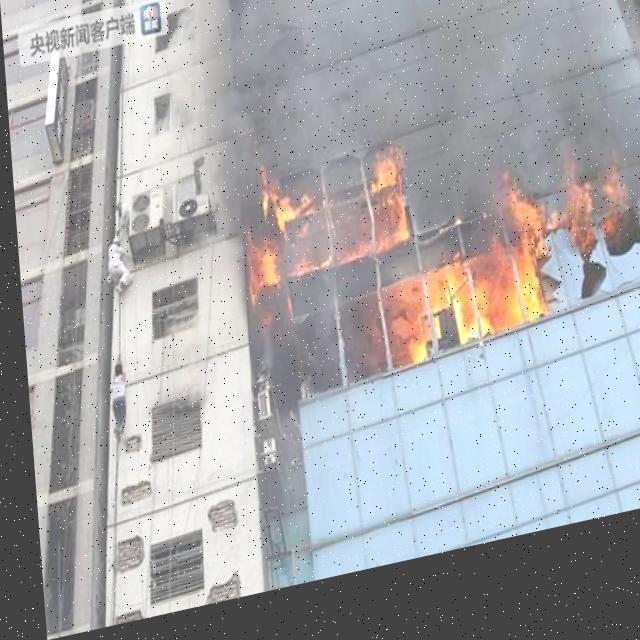Fire: (242, 116, 636, 398)
Smoke: (201, 17, 631, 150), (253, 279, 375, 393)
